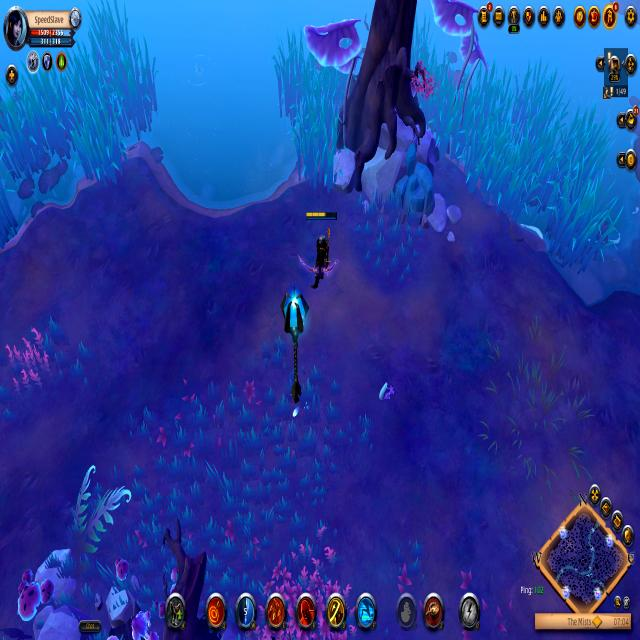10: (278, 281, 313, 413)
red: (300, 207, 341, 294)
tree: (391, 143, 438, 224)
